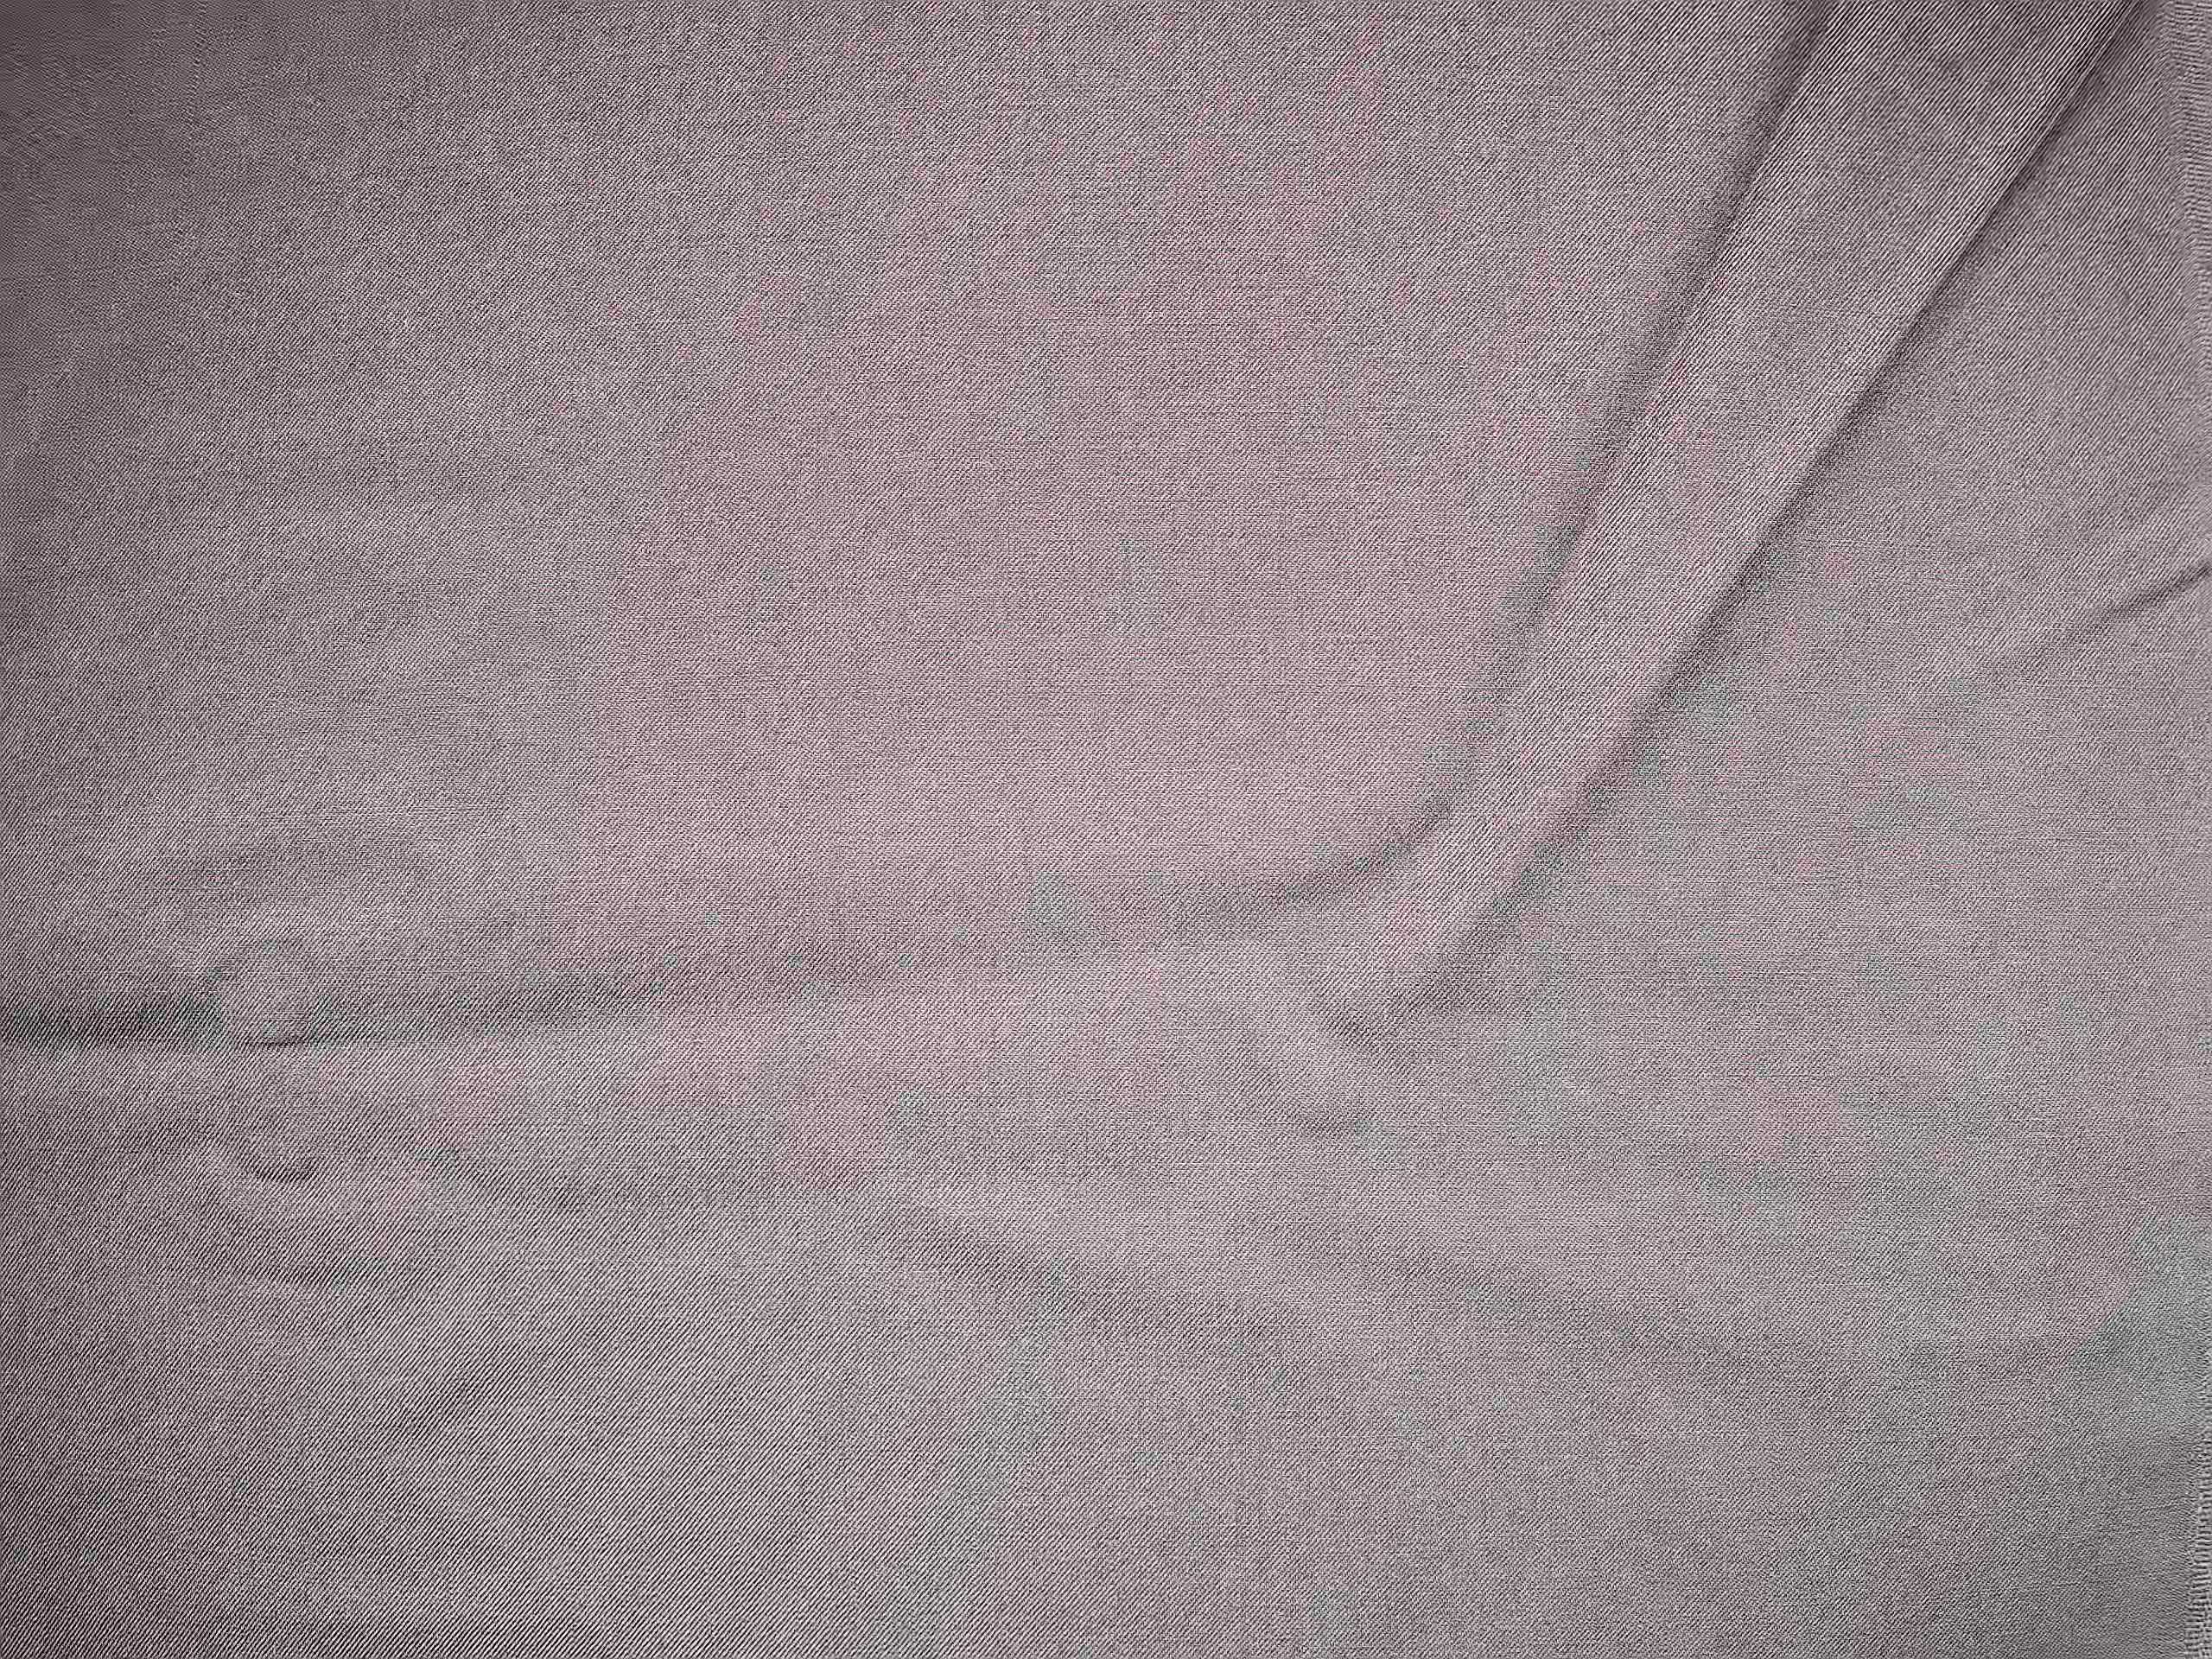hanging-warp: (139, 9, 212, 291)
stains: (734, 693, 1320, 1234)
